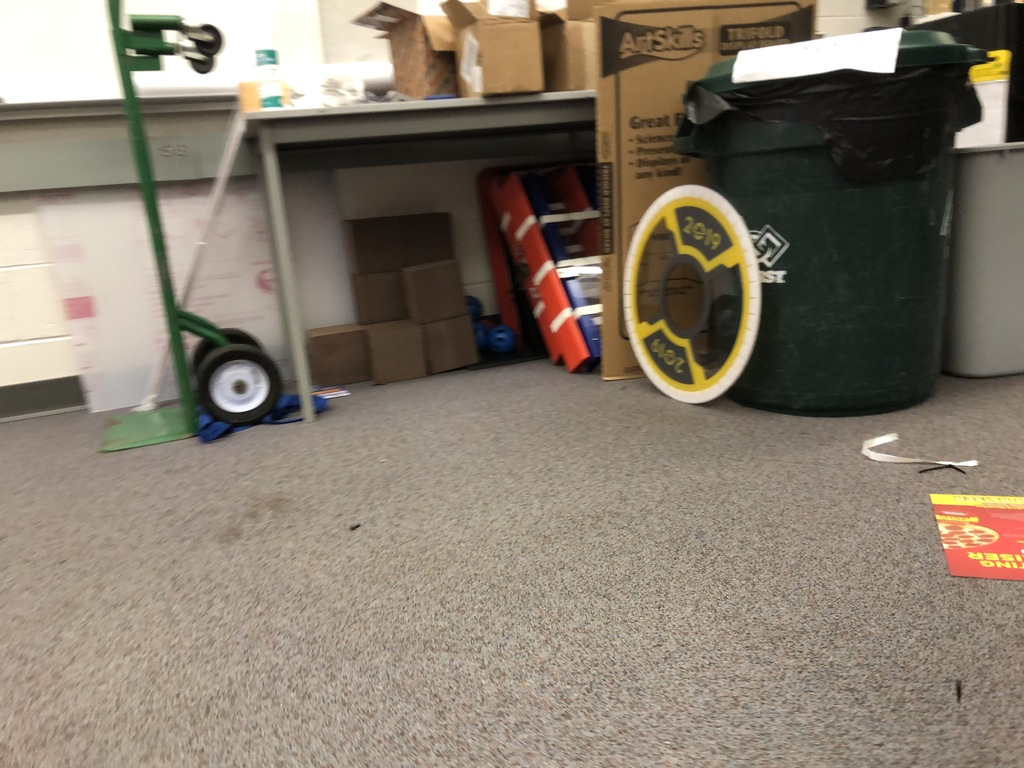hatch_panel: (613, 166, 775, 428)
